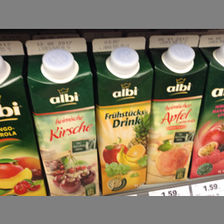juice: (25, 37, 101, 195), (92, 35, 156, 194), (148, 35, 207, 184), (1, 41, 48, 195)
